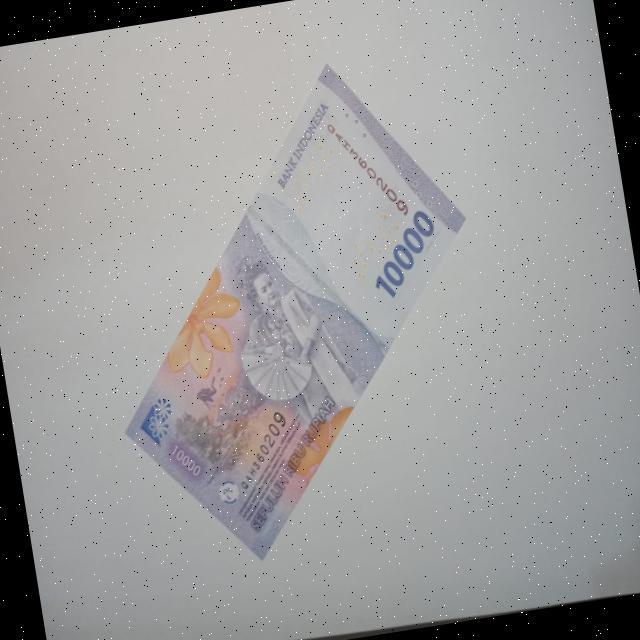10K: (64, 39, 520, 590)
